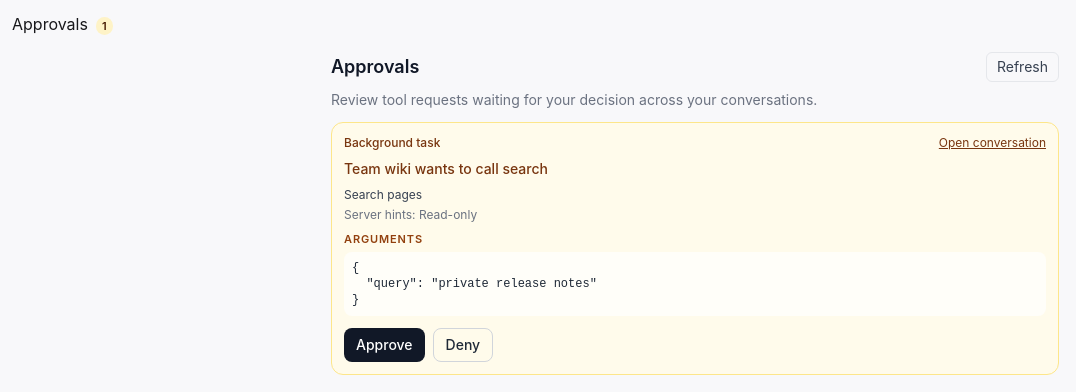
Test: owner tool approvals › shows background conversation requests, exact arguments, and one-time decisions
Expected: the text "Background task" is shown, [344,135,440,151]
Expected: the text "Team wiki wants to call search" is shown, [344,160,548,177]
Click the button "Approve" at (384,344), box [344,328,425,362]
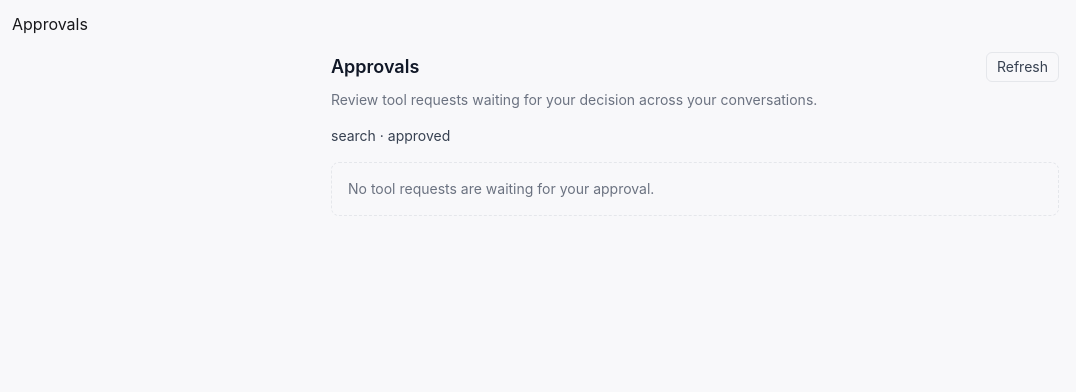
Expected: the message reads "search · approved", [331,127,450,144]
